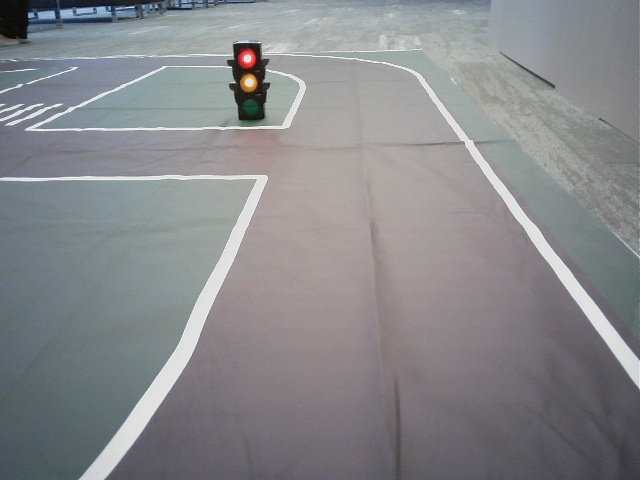red: (237, 44, 262, 119)
